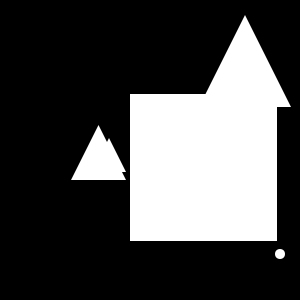circle: (130, 94, 277, 241)
rectangle: (275, 249, 285, 259)
triangle: (199, 15, 291, 107), (71, 125, 126, 180), (92, 138, 126, 172)
